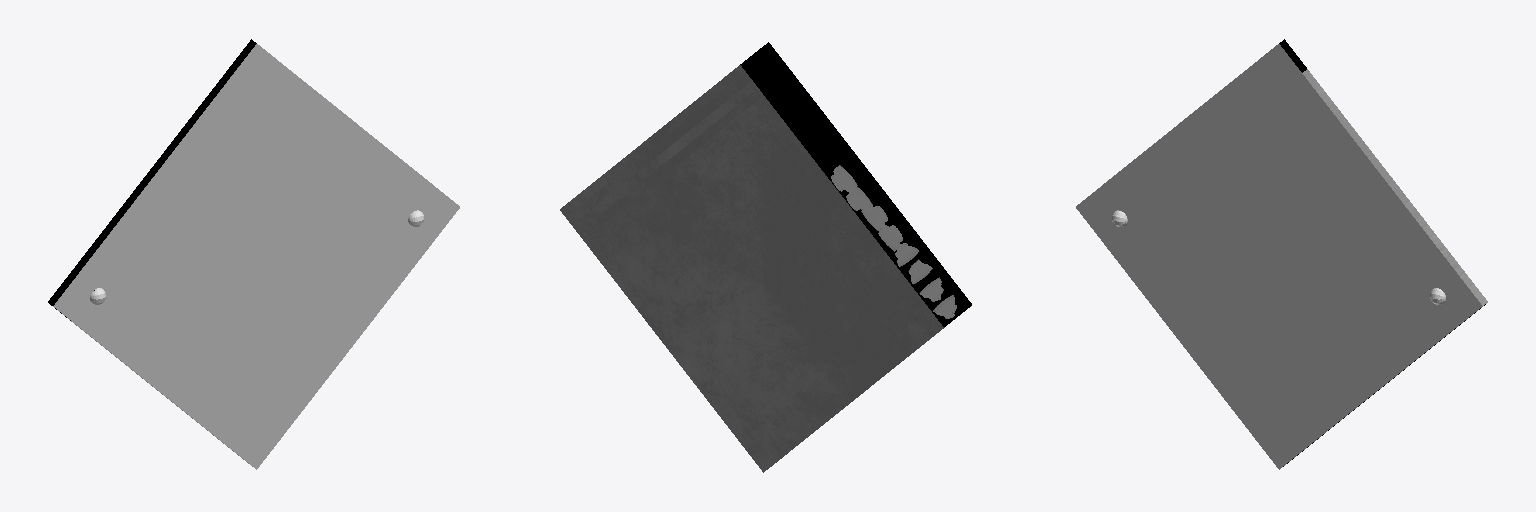
The picture shows the model from 3 angles: view 1: azimuth 30°, elevation 25°; view 2: azimuth 150°, elevation 25°; view 3: azimuth 330°, elevation 25°; orthographic projection.
Visible parts, largest first — view 1: Hor._Board; view 2: Hor._Board; view 3: Hor._Board.
Part boxes in pixels (left/top/right/bottom): Hor._Board: left=48, top=39, right=459, bottom=469; Hor._Board: left=560, top=42, right=971, bottom=472; Hor._Board: left=1076, top=39, right=1487, bottom=469.
Bounding box in the file's own units: 0.3536 × 0.3536 × 0.014.
3 materials, 1 textured.